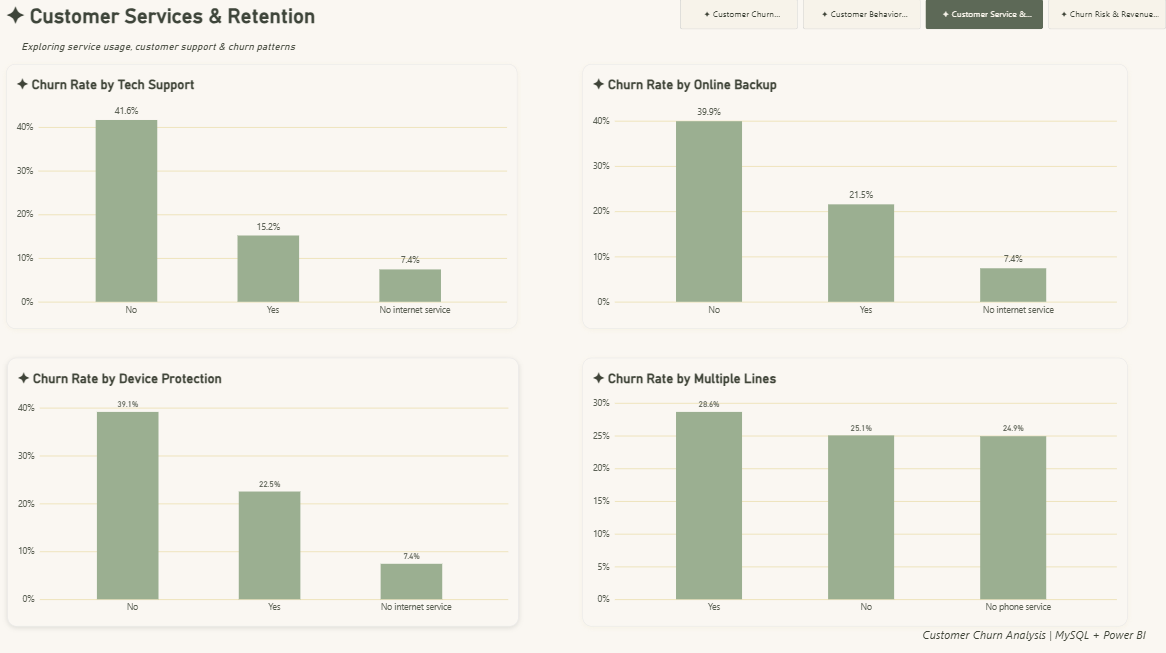

Layout of this report page (visuals, bound fields, positions):
{"tool":"powerbi","page":{"name":"✦ Customer Service & Churn","canvas":[1920,1080],"ordinal":2},"visuals":[{"type":"textbox","box":[10.3,0,588.7,86.4],"z":0},{"type":"textbox","box":[35,67.9,564,39.1],"z":1},{"type":"clusteredColumnChart","title":"✦ Churn Rate by Tech Support","fields":{"Category":["customer_churn customers.TechSupport"],"Y":["customer_churn customers.Churn Rate KPI"]},"box":[10.3,107,841.9,436.4],"z":2},{"type":"clusteredColumnChart","title":"✦ Churn Rate by Online Backup","fields":{"Category":["customer_churn customers.OnlineBackup"],"Y":["customer_churn customers.Churn Rate KPI"]},"box":[959.2,107,897.4,436.4],"z":3},{"type":"clusteredColumnChart","title":"✦ Churn Rate by Device Protection","fields":{"Category":["customer_churn customers.DeviceProtection"],"Y":["customer_churn customers.Churn Rate KPI"]},"box":[12.3,590.7,841.9,442.5],"z":4},{"type":"clusteredColumnChart","title":"✦ Churn Rate by Multiple Lines","fields":{"Category":["customer_churn customers.MultipleLines"],"Y":["customer_churn customers.Churn Rate KPI"]},"box":[959.2,590.7,897.4,442.5],"z":5},{"type":"pageNavigator","box":[1119.7,0,800,50],"z":6},{"type":"textbox","box":[1519,1033.3,401.4,47.3],"z":7}]}

Visuals, with their boxes in screenshot pixels (x1, y1, x2, y2), scaled from the page's 1920x1080 canvas onto the 1166x653 screenshot:
textbox: (6,0,364,52)
textbox: (21,41,364,65)
"✦ Churn Rate by Tech Support" clusteredColumnChart: (6,65,518,329)
"✦ Churn Rate by Online Backup" clusteredColumnChart: (583,65,1127,329)
"✦ Churn Rate by Device Protection" clusteredColumnChart: (7,357,519,625)
"✦ Churn Rate by Multiple Lines" clusteredColumnChart: (583,357,1127,625)
pageNavigator: (680,0,1165,30)
textbox: (922,625,1165,652)
